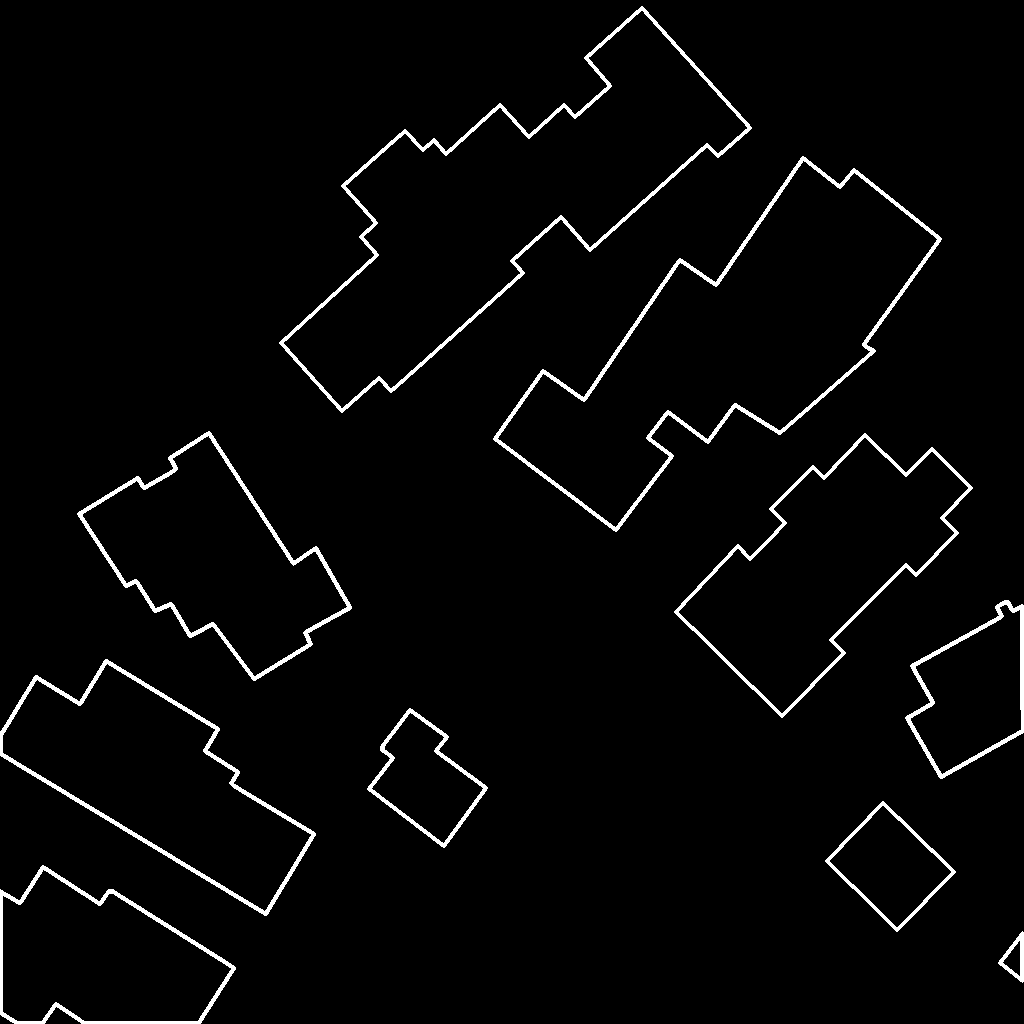building: (281, 8, 751, 412), (495, 158, 941, 531), (676, 435, 972, 717), (0, 661, 315, 915), (79, 433, 351, 680), (0, 867, 235, 1024), (907, 565, 1024, 778), (827, 803, 955, 931), (369, 710, 487, 847), (1000, 933, 1024, 982)
